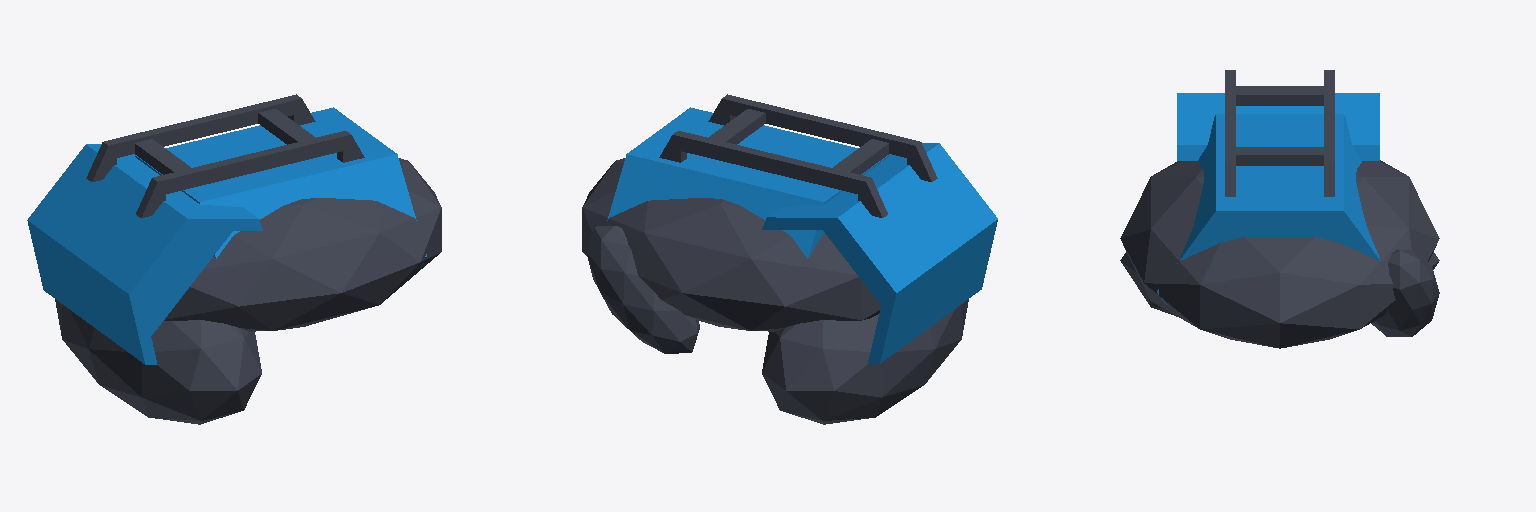
File: hand.obj
3 renders of one model, left to right at view 1: azimuth 30°, elevation 25°; view 2: azimuth 150°, elevation 25°; view 3: azimuth 270°, elevation 25°, orthographic.
Size of the model in its own units: 0.5166 by 0.345 by 0.4.